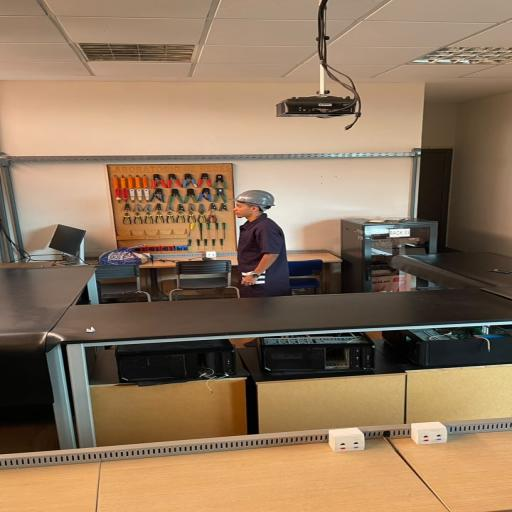CAPACETE: (233, 190, 276, 208)
